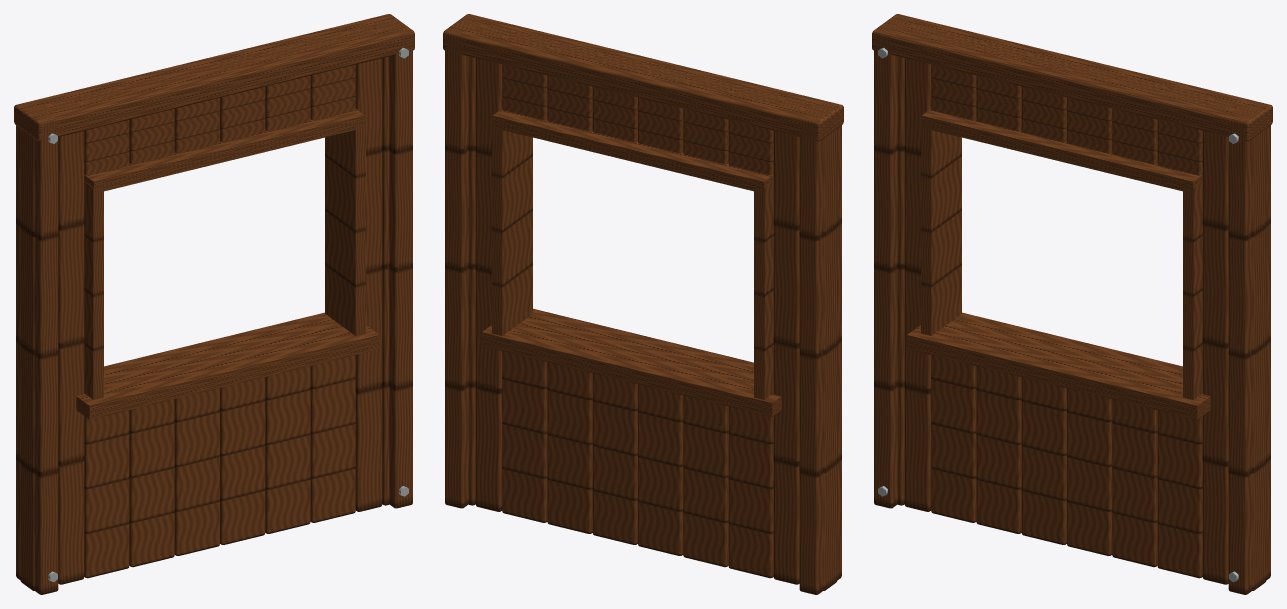
The model's file is roadside-survival-stops-service-counter-front-629ce231__23515.glb.
3 views of the same model, side by side, from view 1: azimuth 30°, elevation 25°; view 2: azimuth 150°, elevation 25°; view 3: azimuth 330°, elevation 25° (orthographic).
Parts seen in each view (by area): view 1: service-counter-front; view 2: service-counter-front; view 3: service-counter-front.
Part boxes in pixels (x1,y1,x2,y2): service-counter-front: (14,14,414,594); service-counter-front: (443,14,843,594); service-counter-front: (872,14,1272,594).
Size of the model in its own units: 2 by 2.4 by 0.3399.
Materials: 2 (1 with a texture image).
